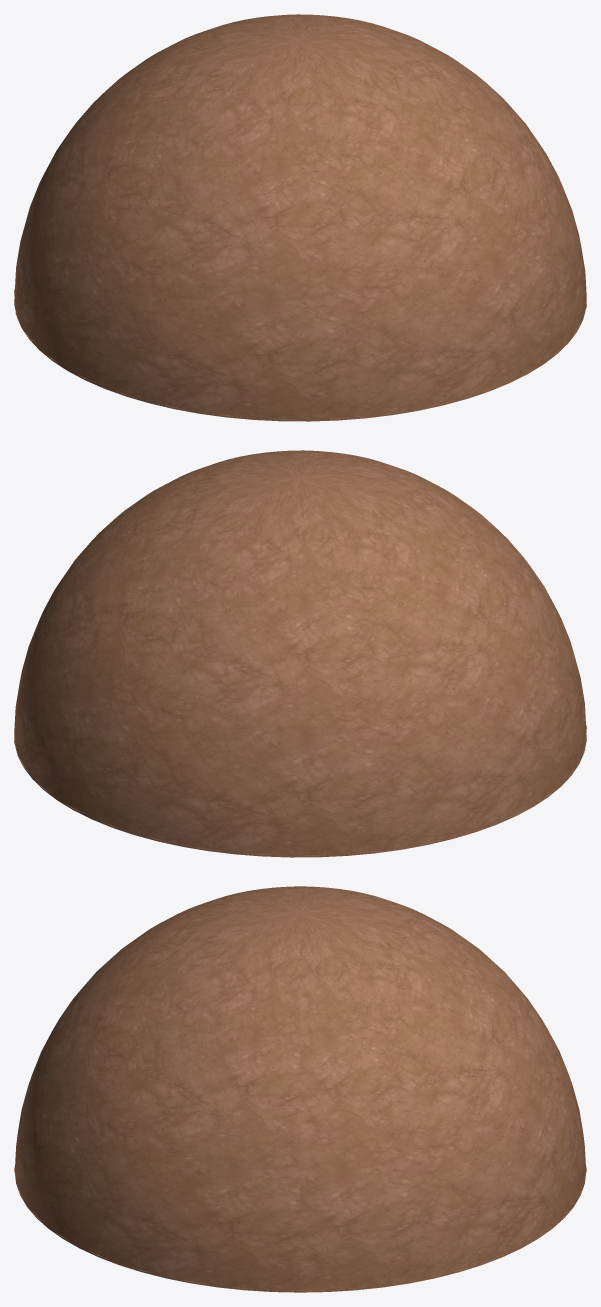
File: Domain.fbx
3 renders of one model, top to bottom at view 1: azimuth 30°, elevation 25°; view 2: azimuth 150°, elevation 25°; view 3: azimuth 270°, elevation 25°, orthographic.
Parts seen in each view (by area): view 1: Dome; view 2: Dome; view 3: Dome.
Boxes of the visible parts, x1,y1,x2,y2 form: Dome: (14,14,586,421); Dome: (14,450,586,857); Dome: (15,886,585,1292).
Bounding box in the file's own units: 141 × 70.25 × 141.
Materials: 1 (1 with a texture image).
